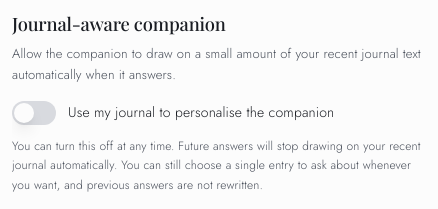
Test: journal permission setting › shows the stored permission and saves a change
Click the switch.
click(34, 113)  # box left=12, top=101, right=56, bottom=125
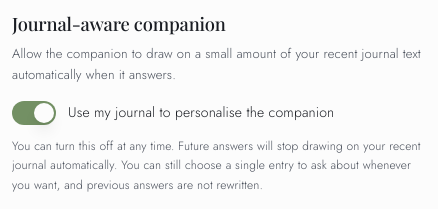
Expected: the switch is checked, left=12, top=101, right=56, bottom=125
